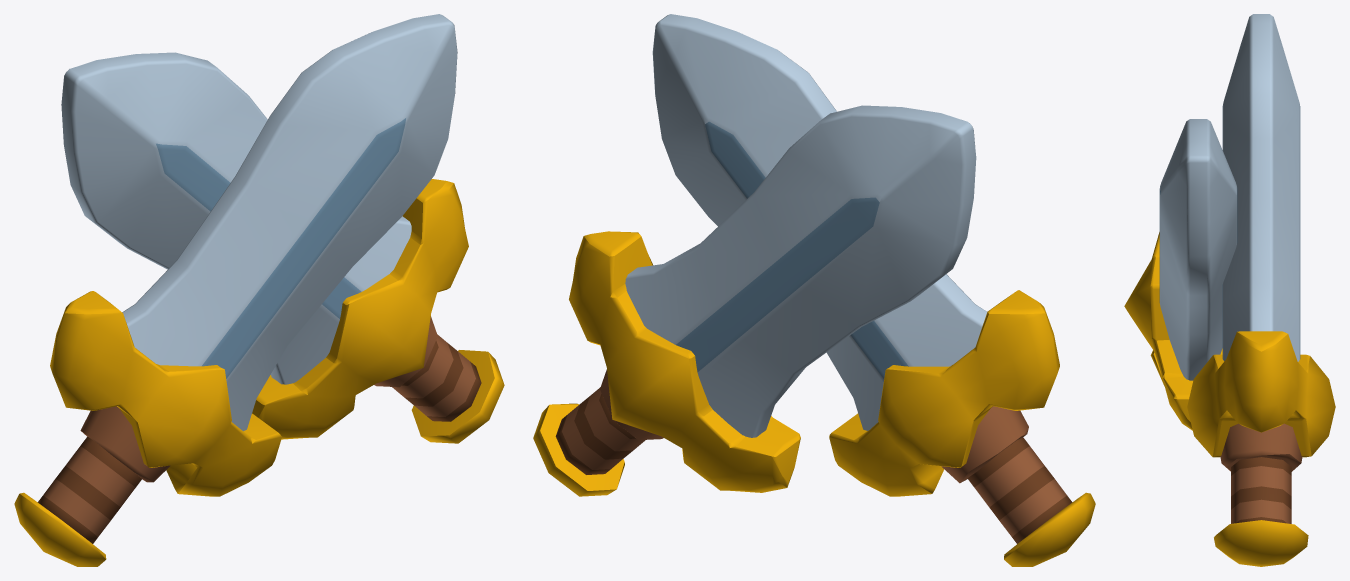
3 views of the same model, side by side, from view 1: azimuth 30°, elevation 25°; view 2: azimuth 150°, elevation 25°; view 3: azimuth 270°, elevation 25° (orthographic). The views are drawn at different scales.
Visible parts, largest first — view 1: model_1.020; view 2: model_1.020; view 3: model_1.020.
Part boxes in pixels (x1,y1,x2,y2): model_1.020: [14, 14, 504, 566]; model_1.020: [533, 14, 1095, 566]; model_1.020: [1124, 14, 1335, 566].
Bounding box in the file's own units: 4.9 × 4.22 × 2.03.
